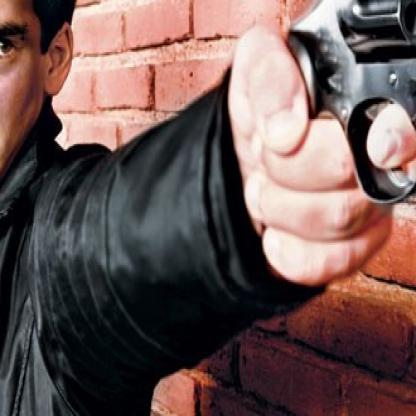gun: (277, 0, 415, 210)
